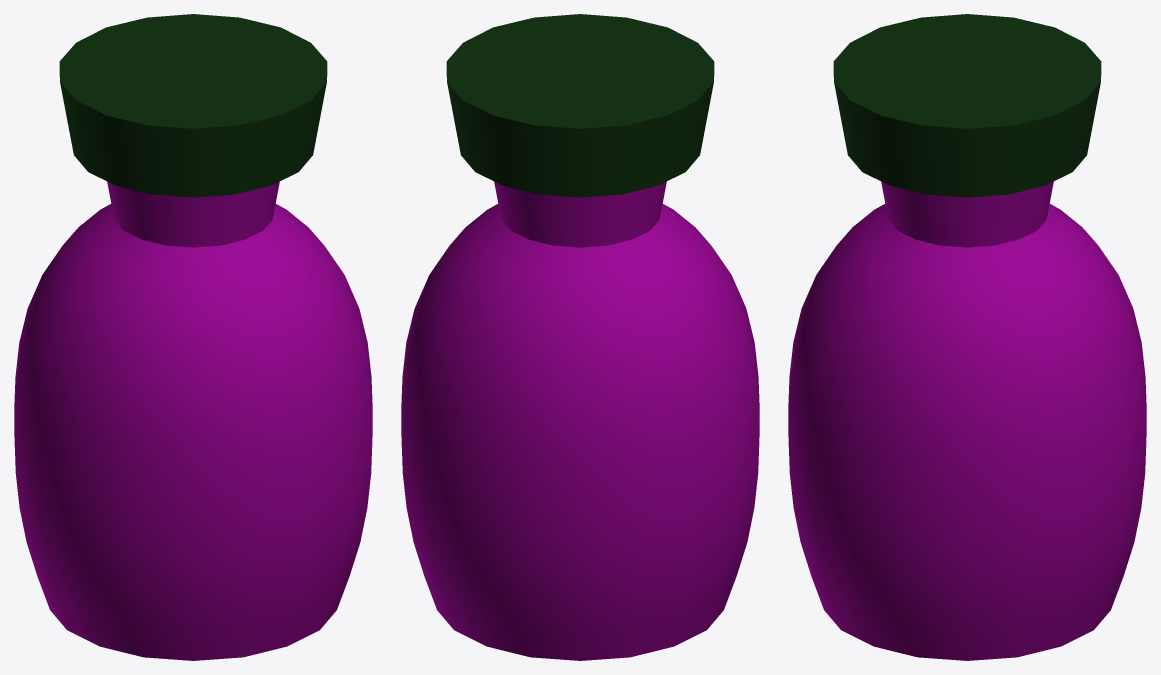
The model's file is Bottle1.FBX.
3 views of the same model, side by side, from view 1: azimuth 30°, elevation 25°; view 2: azimuth 150°, elevation 25°; view 3: azimuth 270°, elevation 25° (orthographic).
Visible parts, largest first — view 1: PRP_Bottle1_HR_1; view 2: PRP_Bottle1_HR_1; view 3: PRP_Bottle1_HR_1.
Boxes of the visible parts, left/top/right/bottom form: PRP_Bottle1_HR_1: left=14, top=14, right=372, bottom=660; PRP_Bottle1_HR_1: left=401, top=14, right=759, bottom=660; PRP_Bottle1_HR_1: left=788, top=14, right=1146, bottom=660.
Bounding box in the file's own units: 11.46 × 18.39 × 11.29.
